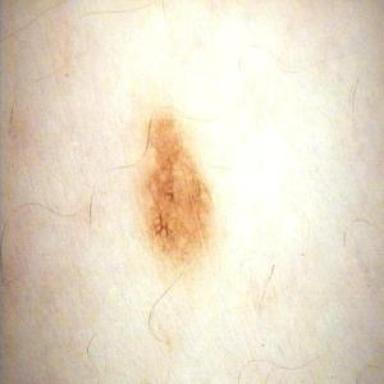Melanoma: (144, 116, 211, 258)
